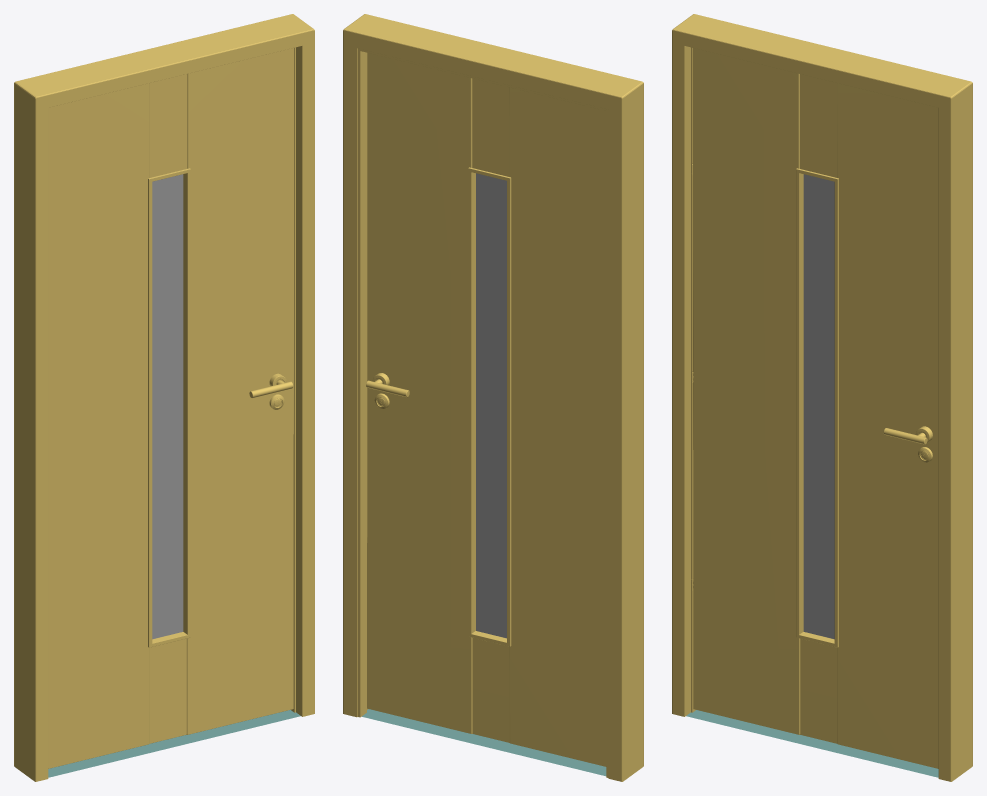
The model's file is Door_ver2_geo.fbx.
3 renders of one model, left to right at view 1: azimuth 30°, elevation 25°; view 2: azimuth 150°, elevation 25°; view 3: azimuth 330°, elevation 25°, orthographic.
Parts seen in each view (by area): view 1: Door_inner, Doorframe, Door_hole_glass, Door_hole_frame, Door_floor_cover1; view 2: Door_inner, Doorframe, Door_hole_glass, Door_hole_frame, Door_floor_cover1; view 3: Door_inner, Doorframe, Door_hole_glass, Door_hole_frame, Door_floor_cover1.
Boxes of the visible parts, bbox=[...] form: Door_inner: bbox=[48, 48, 293, 768]; Doorframe: bbox=[14, 14, 314, 781]; Door_hole_glass: bbox=[152, 174, 183, 639]; Door_hole_frame: bbox=[148, 168, 190, 647]; Door_floor_cover1: bbox=[48, 710, 300, 777]; Door_inner: bbox=[367, 53, 606, 766]; Doorframe: bbox=[343, 14, 643, 781]; Door_hole_glass: bbox=[476, 173, 506, 638]; Door_hole_frame: bbox=[468, 167, 511, 646]; Door_floor_cover1: bbox=[362, 709, 606, 776]; Door_inner: bbox=[693, 48, 938, 768]; Doorframe: bbox=[672, 14, 972, 781]; Door_hole_glass: bbox=[803, 174, 834, 639]; Door_hole_frame: bbox=[796, 168, 838, 647]; Door_floor_cover1: bbox=[686, 710, 938, 777].
Bounding box in the file's own units: 89.42 × 209 × 14.43.
